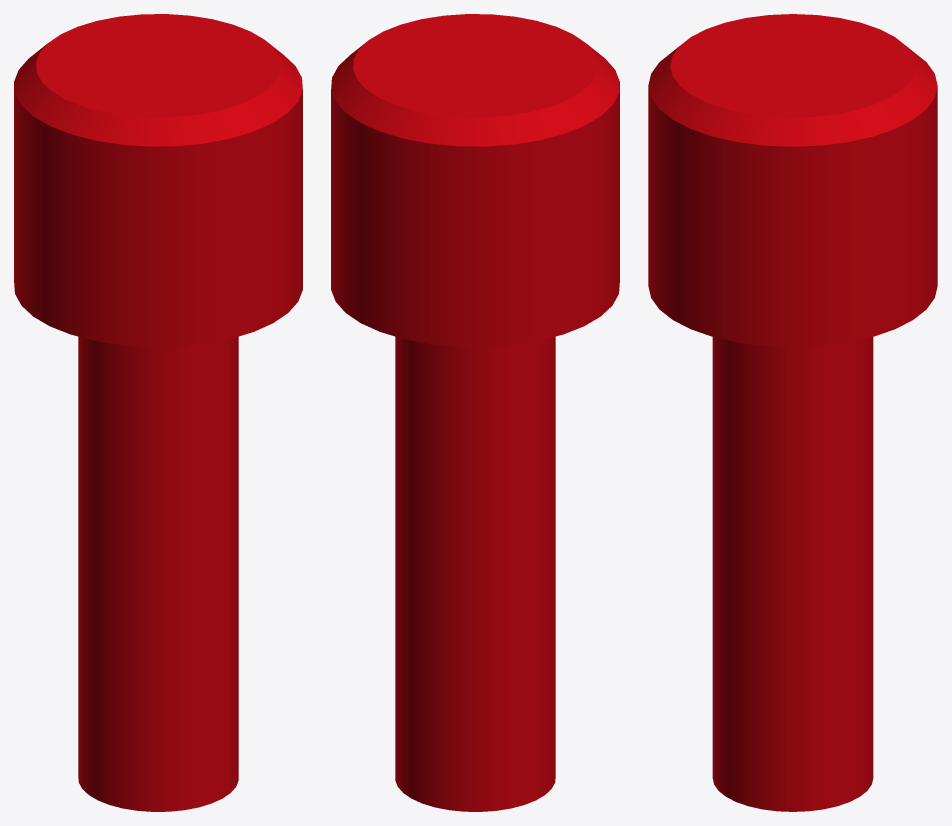
The model's file is 04-Gauge-Pin.fbx.
3 views of the same model, side by side, from view 1: azimuth 30°, elevation 25°; view 2: azimuth 150°, elevation 25°; view 3: azimuth 270°, elevation 25° (orthographic).
Parts seen in each view (by area): view 1: 04-Gauge-Pin; view 2: 04-Gauge-Pin; view 3: 04-Gauge-Pin.
Part boxes in pixels (x1,y1,x2,y2): 04-Gauge-Pin: (14,14,302,811); 04-Gauge-Pin: (331,14,619,811); 04-Gauge-Pin: (648,14,937,811).
Size of the model in its own units: 15.26 by 41.44 by 15.26.
